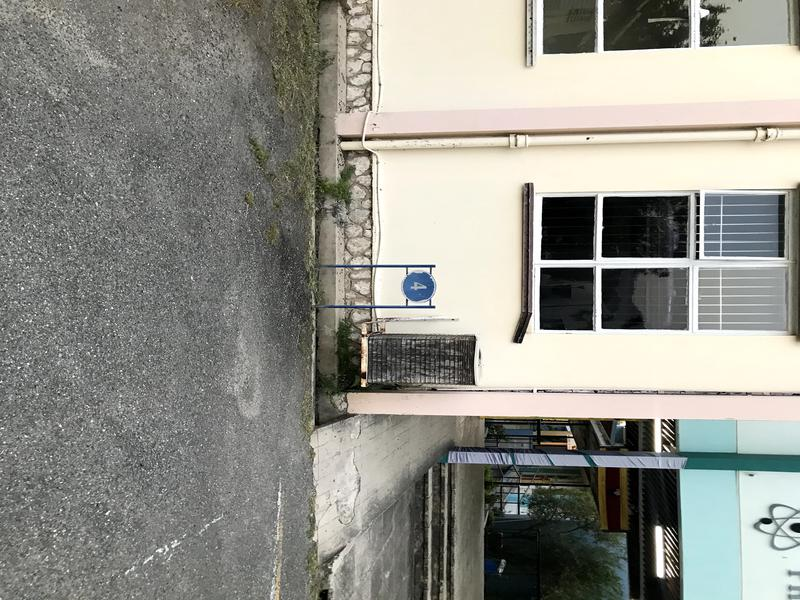18.0053530_-76.7490375_signatentrancetoscitech: (301, 259, 456, 327)
